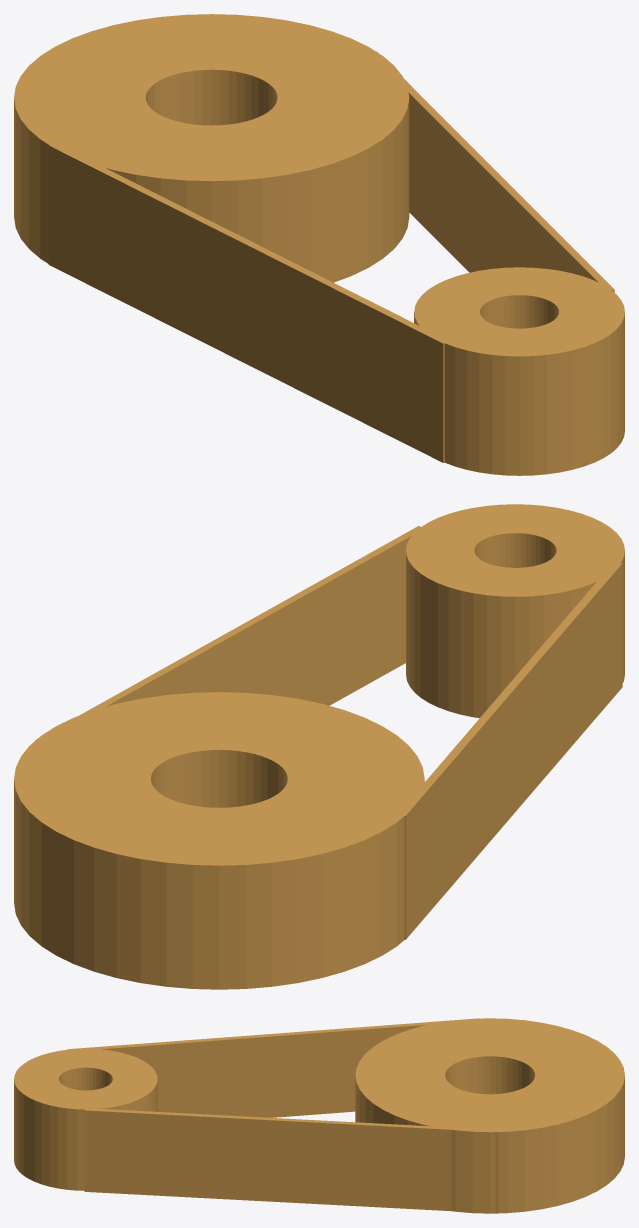
File: Polea-correa.glb
3 renders of one model, top to bottom at view 1: azimuth 30°, elevation 25°; view 2: azimuth 150°, elevation 25°; view 3: azimuth 270°, elevation 25°, orthographic. The views are drawn at different scales.
Visible parts, largest first — view 1: Mesh_Mesh_head_geo.001_lambert2SG.001; view 2: Mesh_Mesh_head_geo.001_lambert2SG.001; view 3: Mesh_Mesh_head_geo.001_lambert2SG.001.
Boxes of the visible parts, x1=… form: Mesh_Mesh_head_geo.001_lambert2SG.001: x1=14, y1=14, x2=624, y2=475; Mesh_Mesh_head_geo.001_lambert2SG.001: x1=14, y1=504, x2=624, y2=989; Mesh_Mesh_head_geo.001_lambert2SG.001: x1=14, y1=1018, x2=624, y2=1213.
Size of the model in its own units: 0.015 by 0.005 by 0.034.
